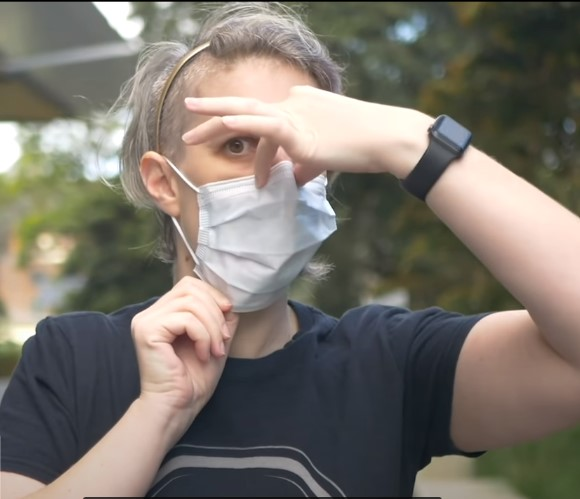face_with_mask: (140, 28, 346, 325)
